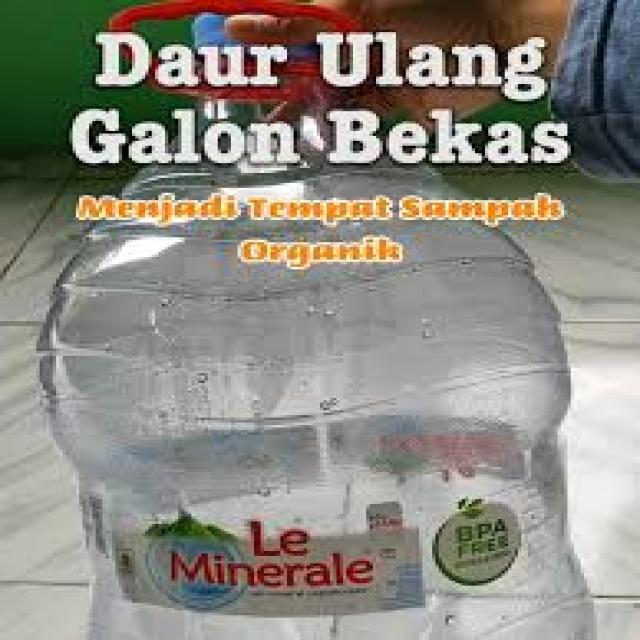Galon: (33, 286, 597, 640)
